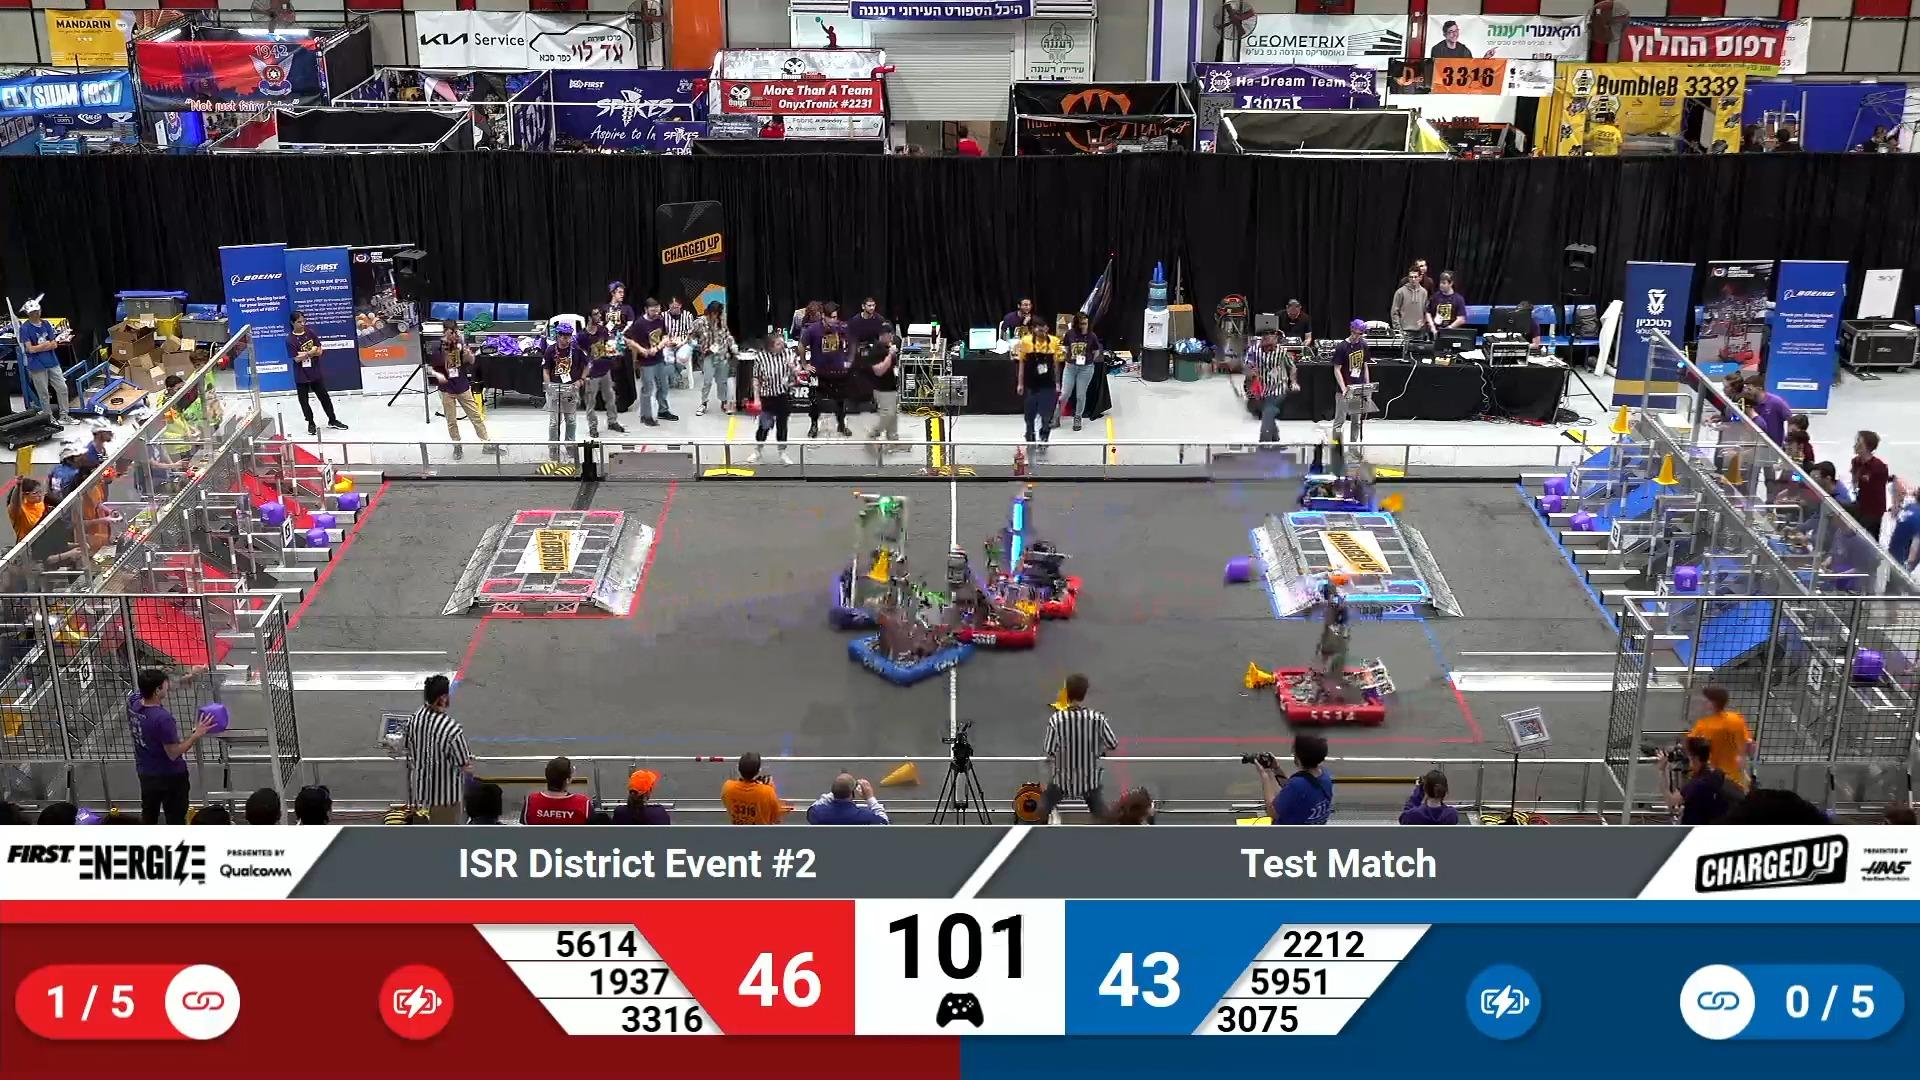robot: (1273, 570, 1389, 725), (844, 553, 972, 684), (824, 488, 938, 632), (993, 481, 1087, 617), (940, 550, 1039, 647), (1299, 425, 1390, 522)
